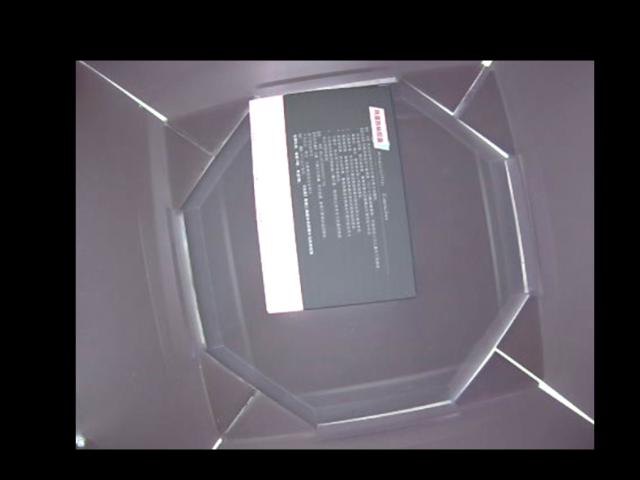Medicine: (248, 88, 419, 314)
